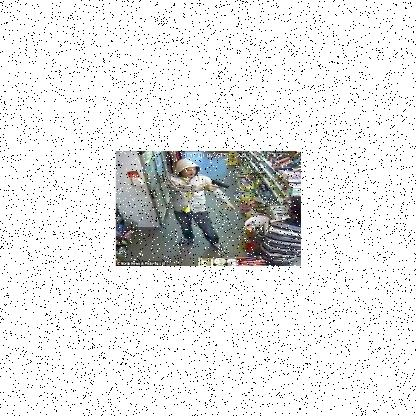gun: (206, 180, 228, 192)
